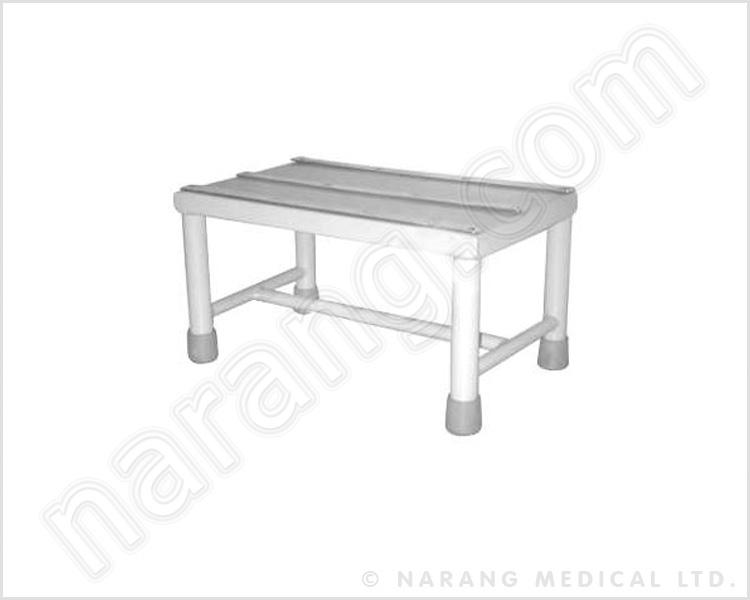stool: (159, 142, 577, 439)
